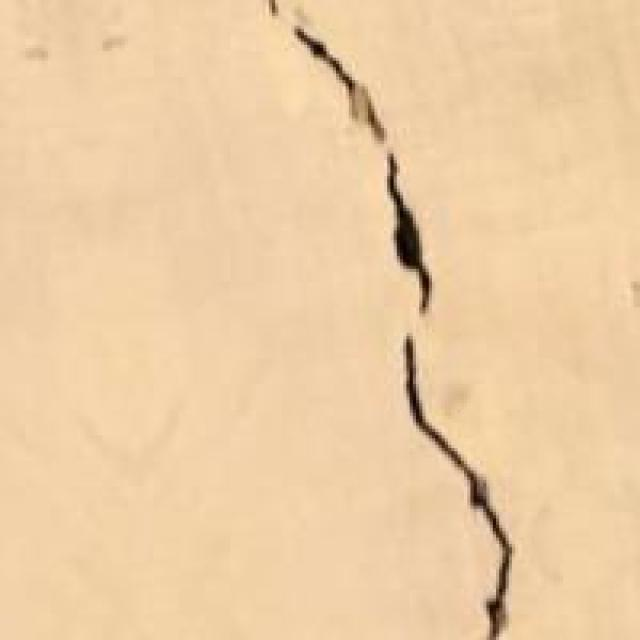crack: (253, 0, 512, 637)
